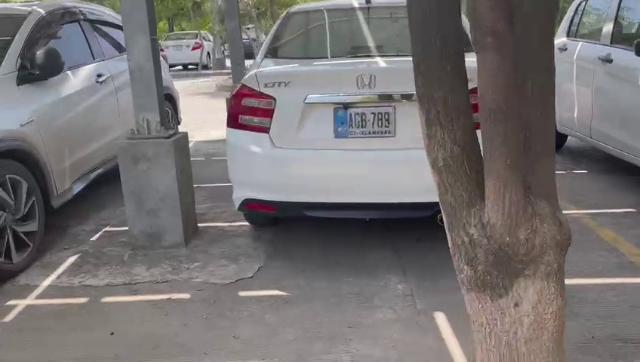plate: (330, 104, 398, 140)
